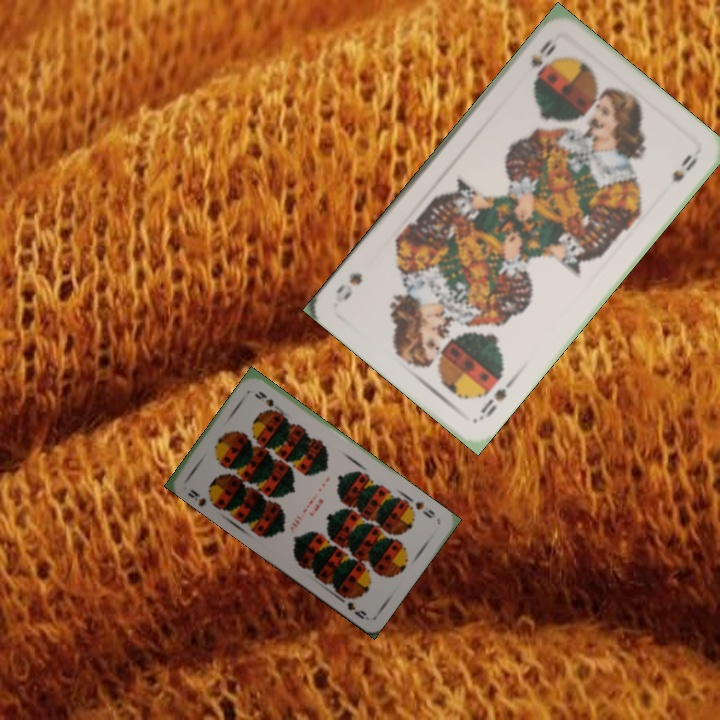S9: (183, 485, 219, 509), (411, 497, 438, 521)
SO: (474, 374, 518, 423), (526, 34, 561, 71)
